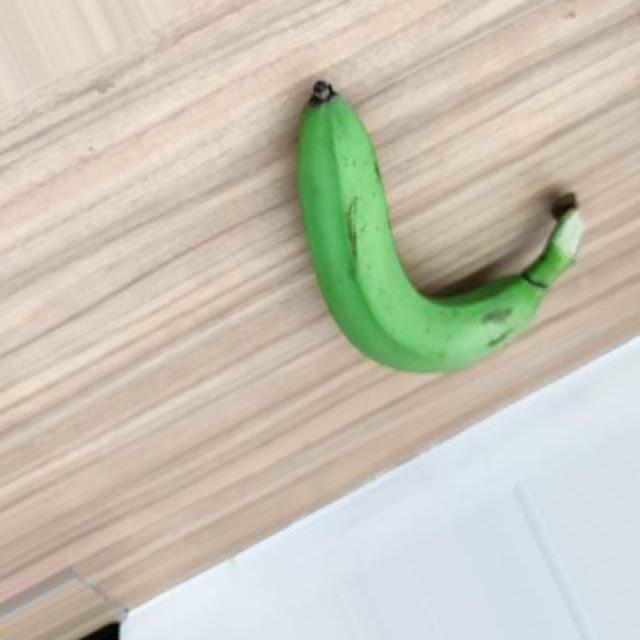Unripe: (294, 79, 586, 374)
